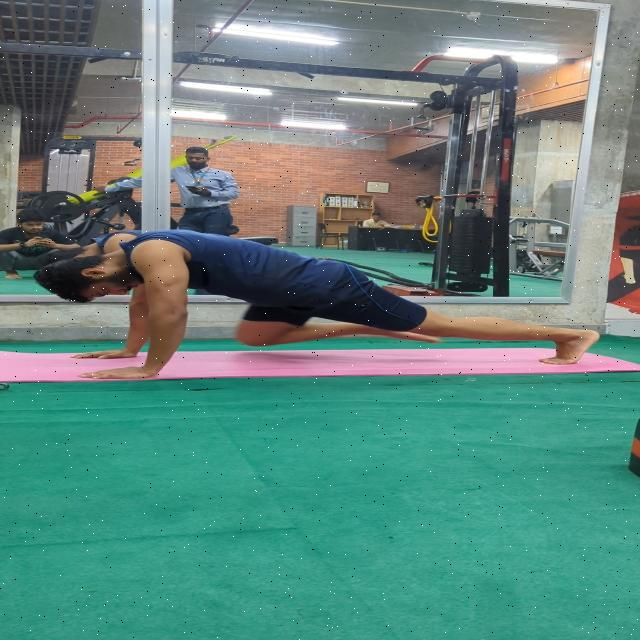Normal_MountainClimbers: (36, 208, 638, 382)
